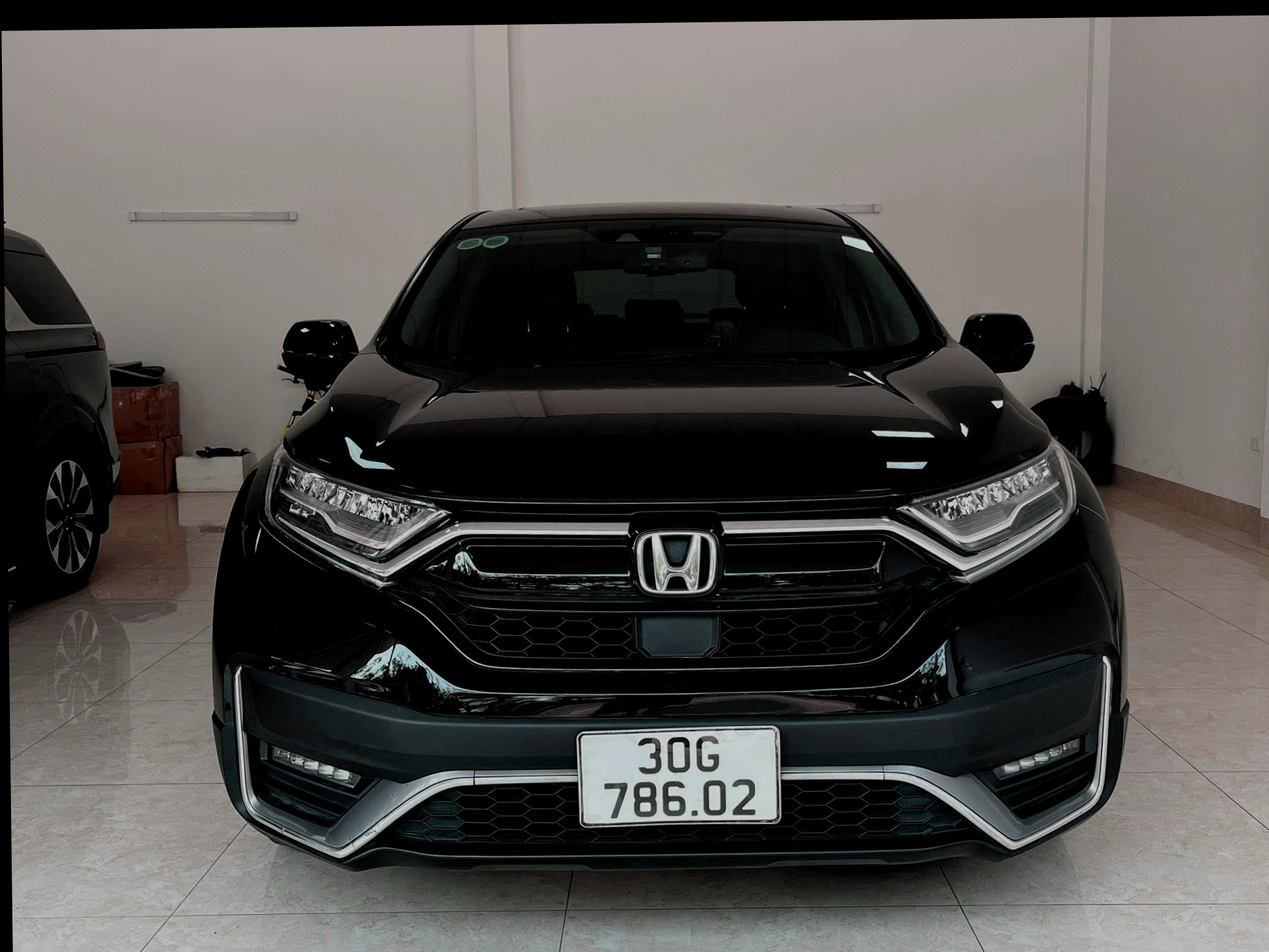Bien-so: (555, 698, 768, 811)
